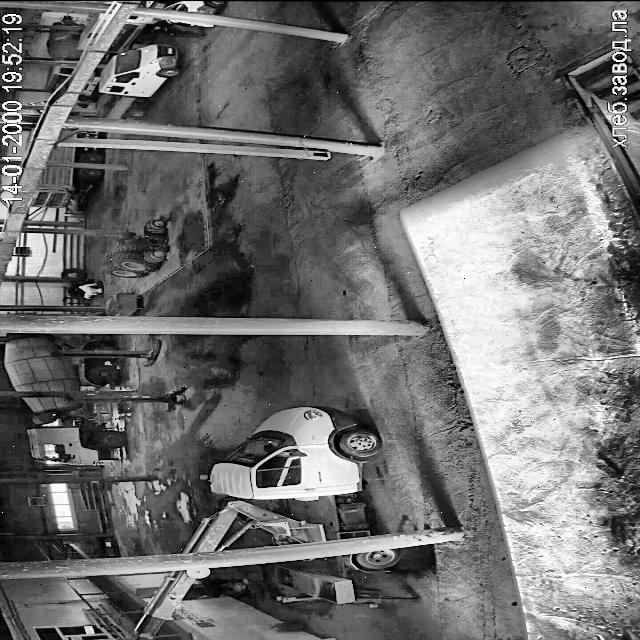fire extinguisher: (270, 621, 305, 632)
mechanic: (151, 20, 204, 40), (196, 577, 246, 596)
truck: (185, 406, 380, 552), (25, 396, 124, 464), (4, 334, 117, 392), (278, 548, 397, 603), (98, 44, 180, 119), (138, 568, 209, 639), (30, 166, 102, 207), (108, 16, 156, 52), (25, 397, 76, 424), (78, 12, 108, 48), (165, 0, 226, 17), (48, 147, 102, 163), (48, 64, 74, 90), (169, 17, 213, 28), (83, 74, 100, 96), (62, 130, 75, 136), (76, 132, 92, 136), (141, 0, 148, 6), (108, 8, 114, 11)
